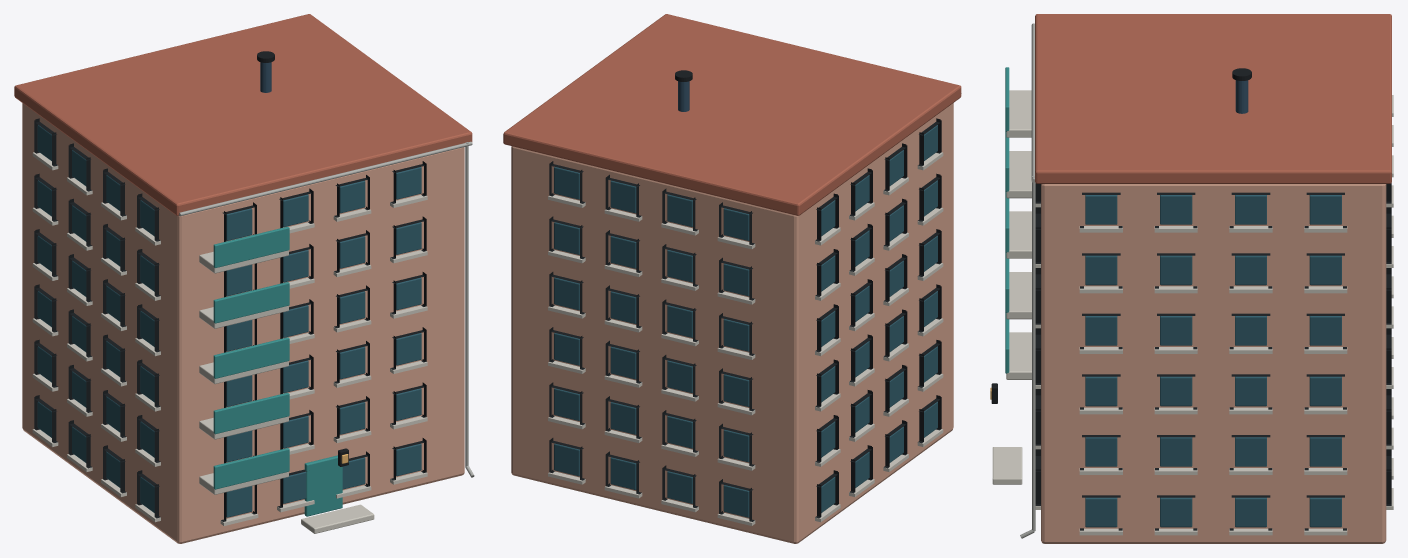
Rendered from RES_MID_2x2_003.glb.
3 views of the same model, side by side, from view 1: azimuth 30°, elevation 25°; view 2: azimuth 150°, elevation 25°; view 3: azimuth 270°, elevation 25° (orthographic). The views are drawn at different scales.
Parts seen in each view (by area): view 1: RES_MID_2x2_003_Visual; view 2: RES_MID_2x2_003_Visual; view 3: RES_MID_2x2_003_Visual.
Part boxes in pixels (<box>): RES_MID_2x2_003_Visual: <box>14,14,474,543</box>; RES_MID_2x2_003_Visual: <box>503,14,961,543</box>; RES_MID_2x2_003_Visual: <box>990,14,1393,543</box>.
Size of what is drawn, in the model's own units: 3.28 by 3.98 by 3.51.
